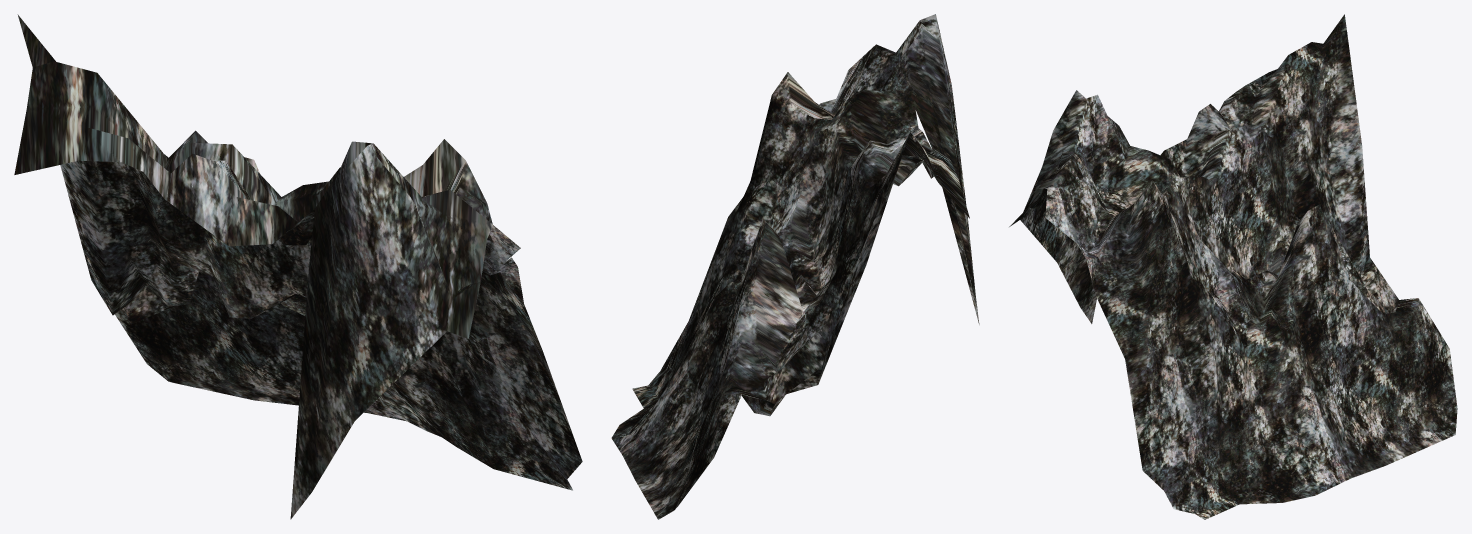
File: OVERHILL_A_01_MOUN1_OBJECT145.fbx
3 renders of one model, left to right at view 1: azimuth 30°, elevation 25°; view 2: azimuth 150°, elevation 25°; view 3: azimuth 270°, elevation 25°, orthographic. The views are drawn at different scales.
Visible parts, largest first — view 1: OVERHILL_A_01_MOUN1_OBJECT145; view 2: OVERHILL_A_01_MOUN1_OBJECT145; view 3: OVERHILL_A_01_MOUN1_OBJECT145.
Part boxes in pixels (x1,y1,x2,y2): OVERHILL_A_01_MOUN1_OBJECT145: [14, 14, 582, 519]; OVERHILL_A_01_MOUN1_OBJECT145: [611, 14, 979, 519]; OVERHILL_A_01_MOUN1_OBJECT145: [1009, 14, 1457, 519].
Bounding box in the file's own units: 341404 × 337078 × 388955.
1 material, 1 textured.
